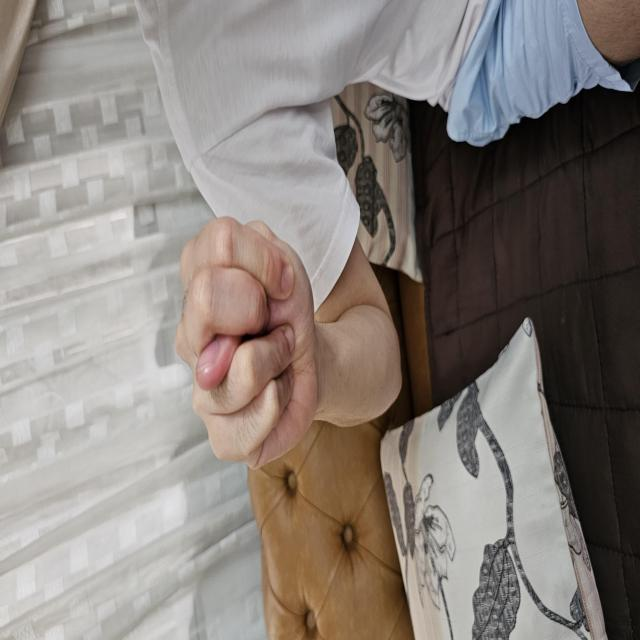N: (144, 173, 426, 507)
